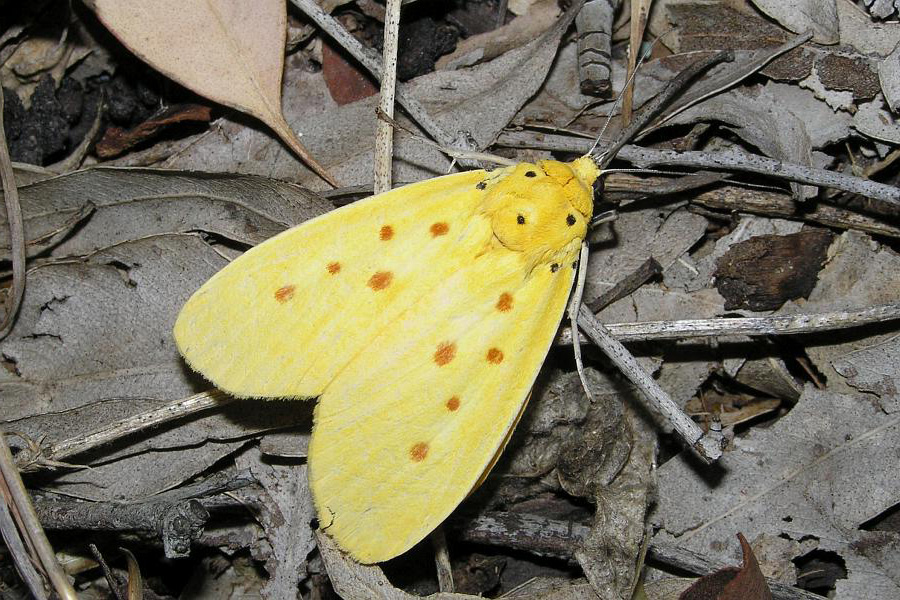Agape chloropyga: (172, 24, 785, 570)
moth: (170, 22, 783, 568)
